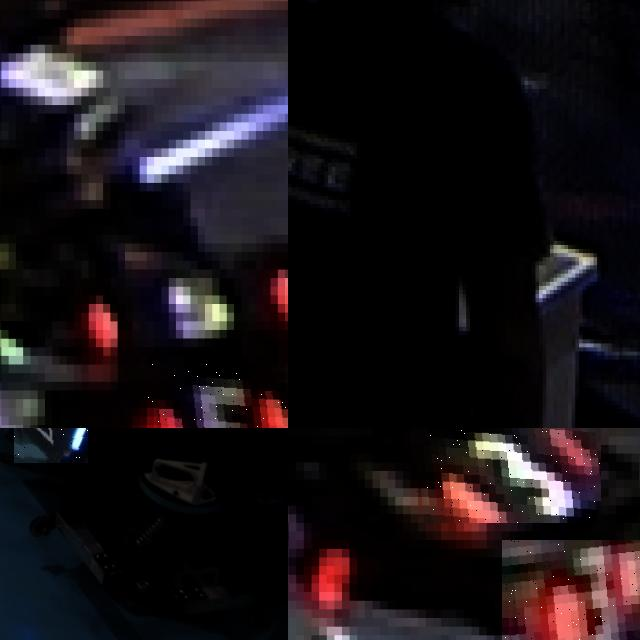Bs: (14, 428, 87, 463)
R3: (410, 428, 601, 523), (501, 540, 640, 640), (288, 488, 357, 600)
R5: (146, 364, 288, 428)
